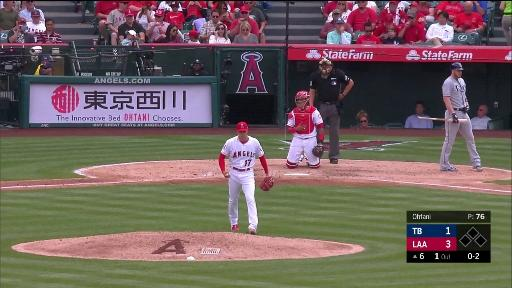pitcher: (218, 123, 274, 235)
